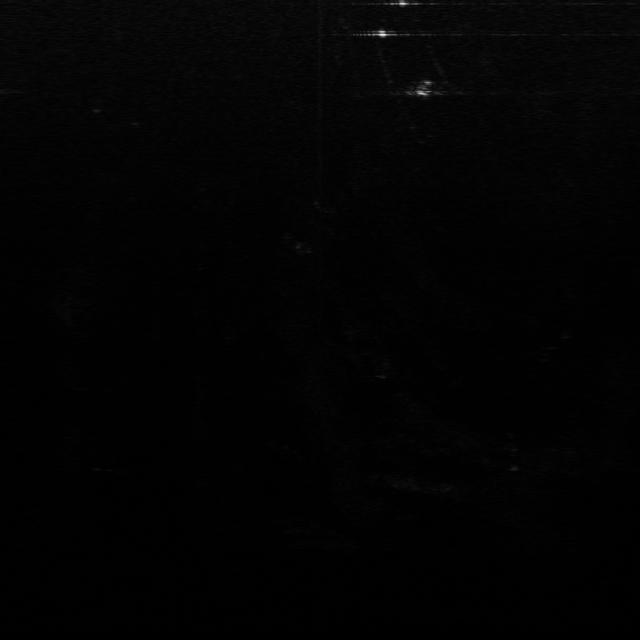rov: (406, 76, 442, 101)
